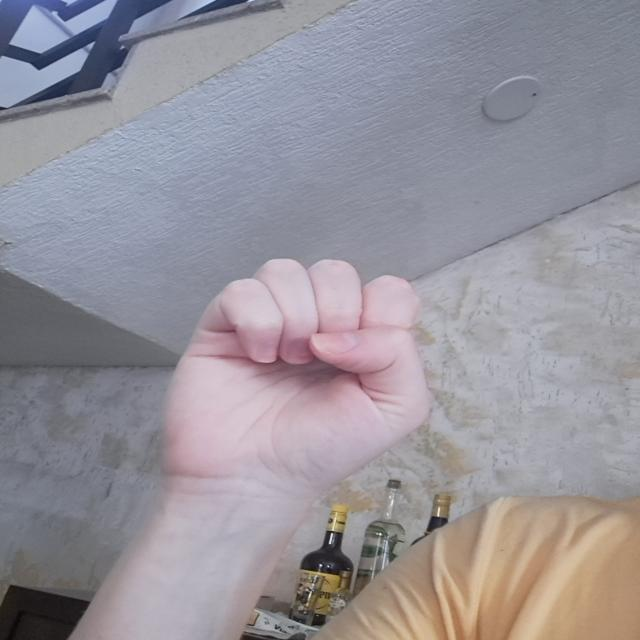S: (149, 259, 444, 480)
